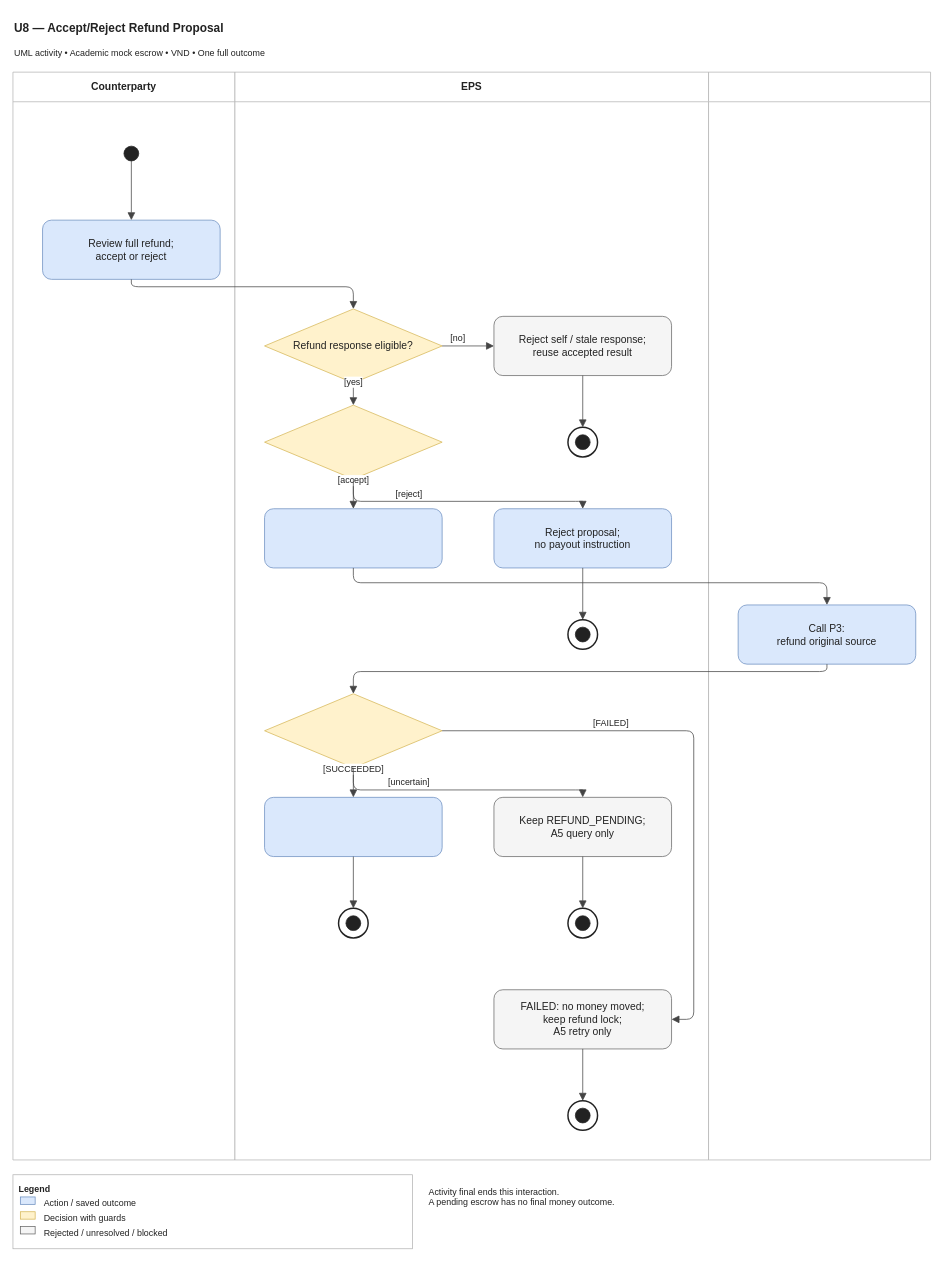
The diagram is 944 pixels wide and 1262 high, and some of its shapes have lost their labels. The box of each missing label's shape, as (x1, y1, x2, y2) in pixels:
Accept or reject?: (264, 404, 442, 479)
Approve proposal; reserve full refund: (264, 508, 442, 568)
Authoritative refund result?: (264, 693, 442, 768)
Original Bank / Gateway mock: (708, 71, 931, 1160)
Show confirmed REFUNDED: (264, 797, 442, 857)
